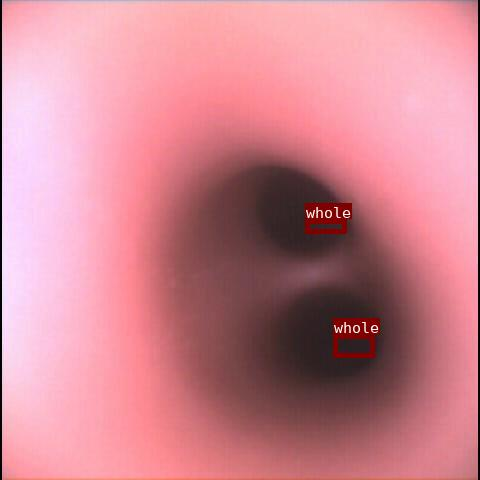whole: (333, 334, 374, 357), (305, 219, 346, 233)
